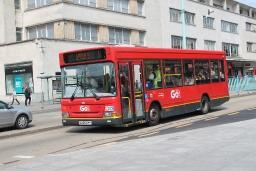person: (25, 85, 32, 106)
